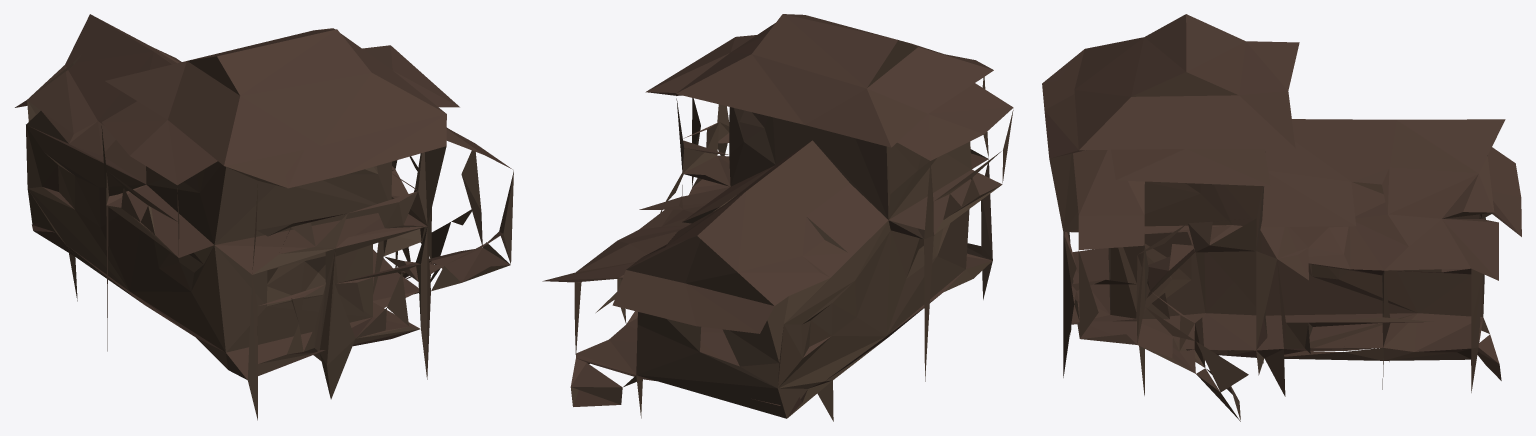
File: rusty-house.far-facades-v2.lod2.glb
The picture shows the model from 3 angles, left to right: view 1: azimuth 30°, elevation 25°; view 2: azimuth 150°, elevation 25°; view 3: azimuth 270°, elevation 25°; orthographic projection. The views are drawn at different scales.
Parts seen in each view (by area): view 1: rusty-house; view 2: rusty-house; view 3: rusty-house.
Part boxes in pixels (box(x1,y1,x2,y2)): rusty-house: box(15, 14, 513, 420); rusty-house: box(542, 14, 1013, 421); rusty-house: box(1042, 14, 1521, 421).
Size of the model in its own units: 7.5 by 6.85 by 9.98.
